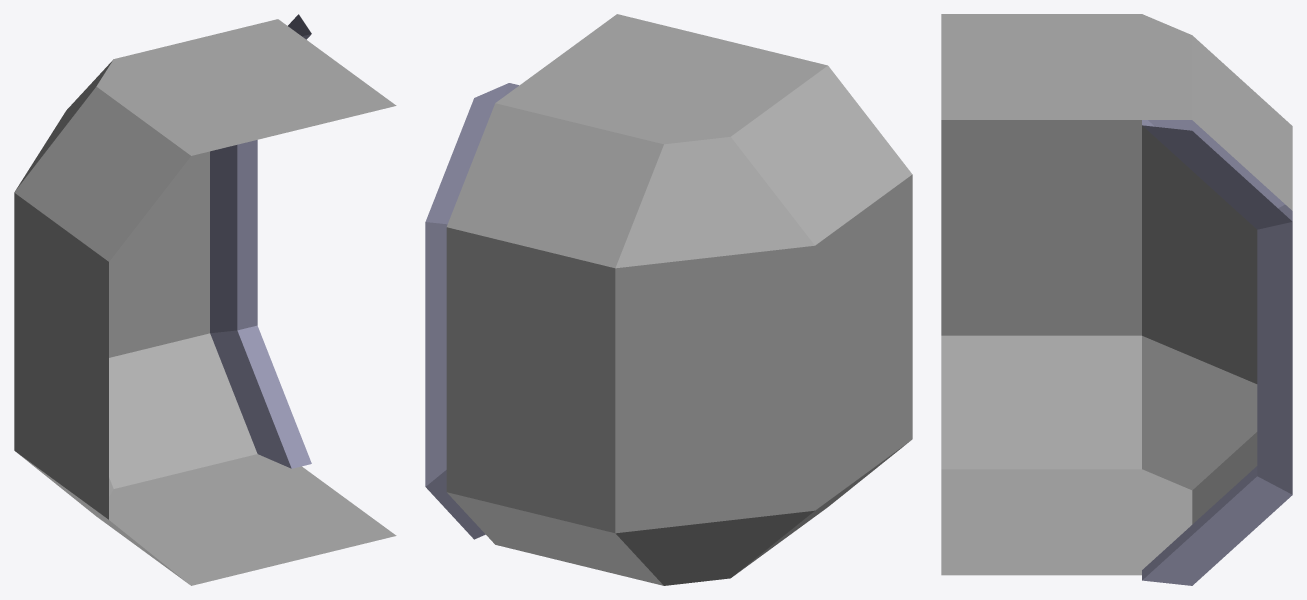
Rendered from tunnel_outside_corner_template_1.fbx.
3 views of the same model, side by side, from view 1: azimuth 30°, elevation 25°; view 2: azimuth 150°, elevation 25°; view 3: azimuth 270°, elevation 25° (orthographic). The views are drawn at different scales.
Visible parts, largest first — view 1: Tile_CornerOutside00; view 2: Tile_CornerOutside00; view 3: Tile_CornerOutside00.
Boxes of the visible parts, left/top/right/bottom form: Tile_CornerOutside00: left=14, top=14, right=396, bottom=585; Tile_CornerOutside00: left=425, top=14, right=912, bottom=585; Tile_CornerOutside00: left=941, top=14, right=1292, bottom=585.
Size of the model in its own units: 1.88 by 2.5 by 1.75.
